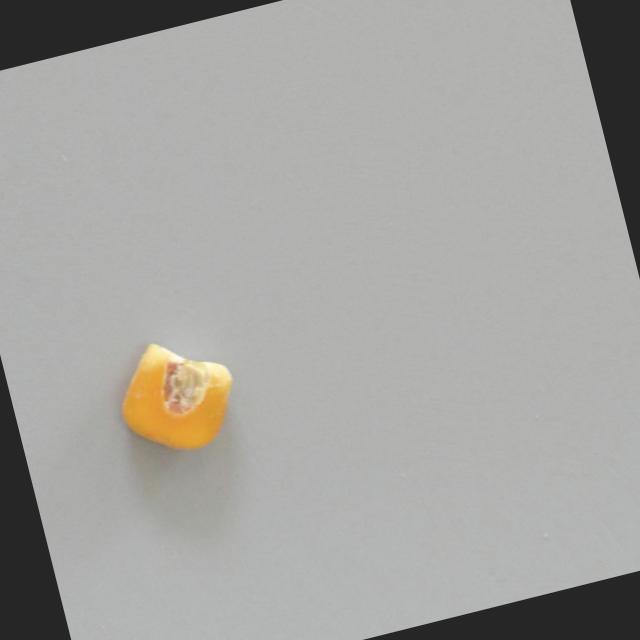dañado: (97, 320, 254, 471)
